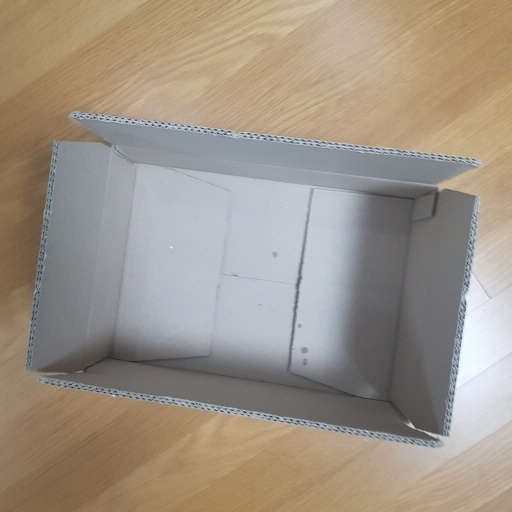Paper_0: (25, 106, 481, 453)
